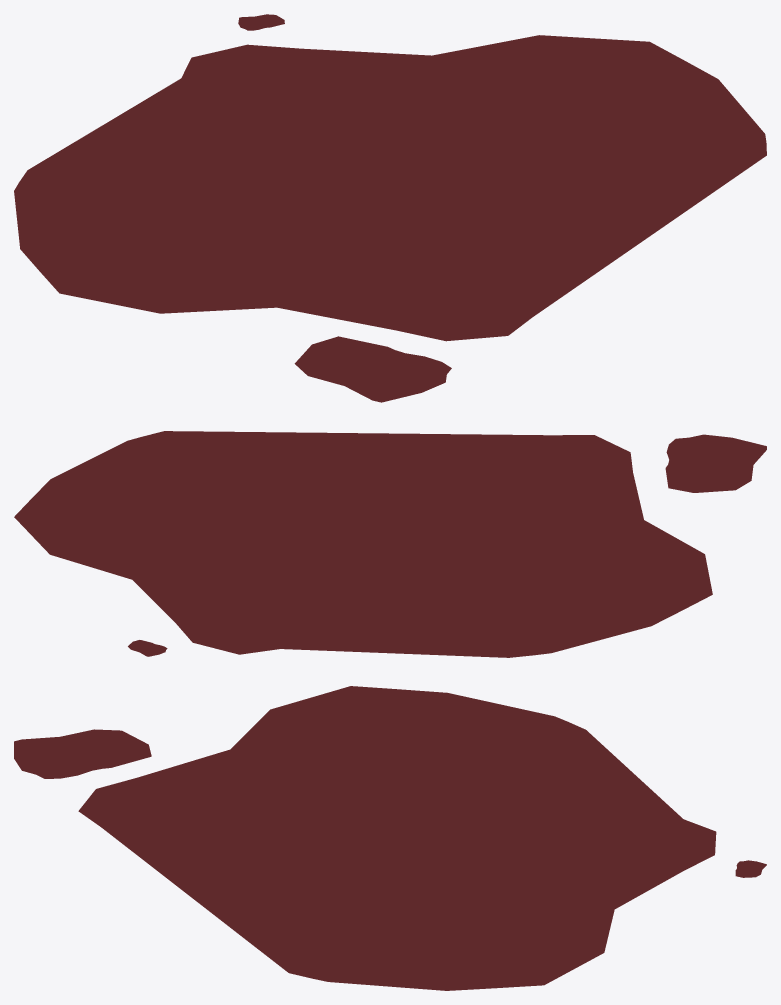
Rendered from quaternius-zombie-apocalypse-kit-march-blood-1.glb.
3 views of the same model, one above another, from view 1: azimuth 30°, elevation 25°; view 2: azimuth 150°, elevation 25°; view 3: azimuth 270°, elevation 25° (orthographic). The views are drawn at different scales.
Parts seen in each view (by area): view 1: Blood_1; view 2: Blood_1; view 3: Blood_1.
Boxes of the visible parts, x1,y1,x2,y2 form: Blood_1: (14, 14, 766, 402); Blood_1: (14, 431, 766, 657); Blood_1: (14, 686, 766, 990).
Size of the model in its own units: 3.41 by 0 by 3.56.
Materials: 1 (1 with a texture image).
